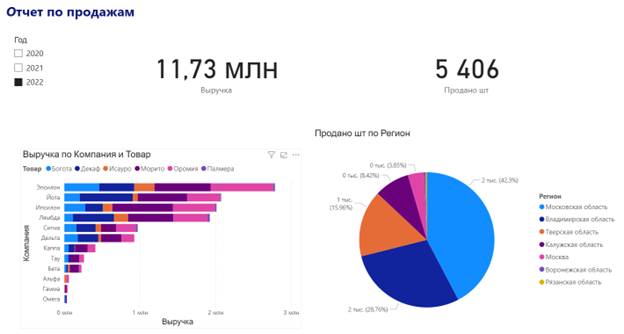

This screenshot's page, from the dashboard's own definition file:
{"tool":"powerbi","page":{"name":"Страница 1","canvas":[1280,720],"ordinal":0},"visuals":[{"type":"card","fields":{"Values":["Sales.Выручка"]},"box":[221.8,78.8,430.9,149.8],"z":0},{"type":"barChart","fields":{"Category":["Client.Компания"],"Y":["Sales.Выручка"],"Series":["Price.Товар"]},"box":[41.8,312.2,567.1,361.8],"z":1000},{"type":"pieChart","fields":{"Category":["Regions.Регион"],"Y":["Sales.Продано шт"]},"box":[630.3,269.4,624.4,432.8],"z":2000},{"type":"card","fields":{"Values":["Sales.Продано шт"]},"box":[746,78.8,392,149.8],"z":3000},{"type":"slicer","fields":{"Values":["Sales.Год"]},"box":[16.5,78.8,189.7,159.5],"z":4000},{"type":"textbox","box":[7.8,10.7,366.7,56.4],"z":5000}]}

Visuals, with their boxes on the page's 1280x720 design canvas (x1, y1, x2, y2). These are canvas units, not pixel positions in the 624x334 screenshot, which may show the page scaled, cropped or inside an application window:
card - Sales.Выручка: {"x1": 222, "y1": 79, "x2": 653, "y2": 229}
barChart - Client.Компания x Sales.Выручка: {"x1": 42, "y1": 312, "x2": 609, "y2": 674}
pieChart - Regions.Регион x Sales.Продано шт: {"x1": 630, "y1": 269, "x2": 1255, "y2": 702}
card - Sales.Продано шт: {"x1": 746, "y1": 79, "x2": 1138, "y2": 229}
slicer - Sales.Год: {"x1": 16, "y1": 79, "x2": 206, "y2": 238}
textbox: {"x1": 8, "y1": 11, "x2": 374, "y2": 67}
